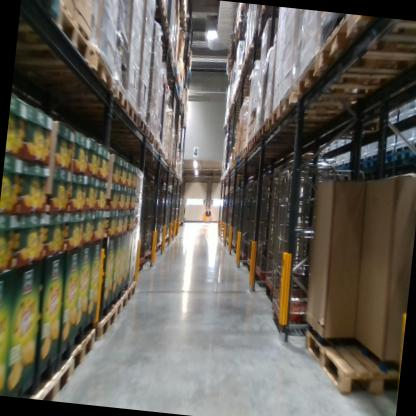pallet: (302, 318, 402, 401), (312, 12, 416, 86), (274, 82, 388, 136), (299, 46, 397, 108), (15, 37, 117, 95), (15, 0, 97, 70), (38, 74, 130, 115), (28, 353, 76, 402), (62, 323, 95, 372), (81, 304, 116, 344), (101, 111, 150, 137), (104, 123, 157, 147), (242, 143, 298, 163), (257, 119, 294, 146), (246, 139, 301, 156), (104, 290, 128, 323), (20, 0, 58, 19), (253, 5, 281, 27), (141, 0, 171, 20), (145, 17, 172, 39), (122, 100, 139, 124), (265, 101, 278, 132), (123, 280, 138, 299), (174, 12, 189, 31), (147, 135, 160, 154), (251, 129, 260, 150), (155, 147, 164, 160), (162, 153, 169, 168), (238, 152, 246, 162), (235, 156, 242, 164), (232, 159, 236, 166)
pallet_truck: (201, 200, 216, 225)
